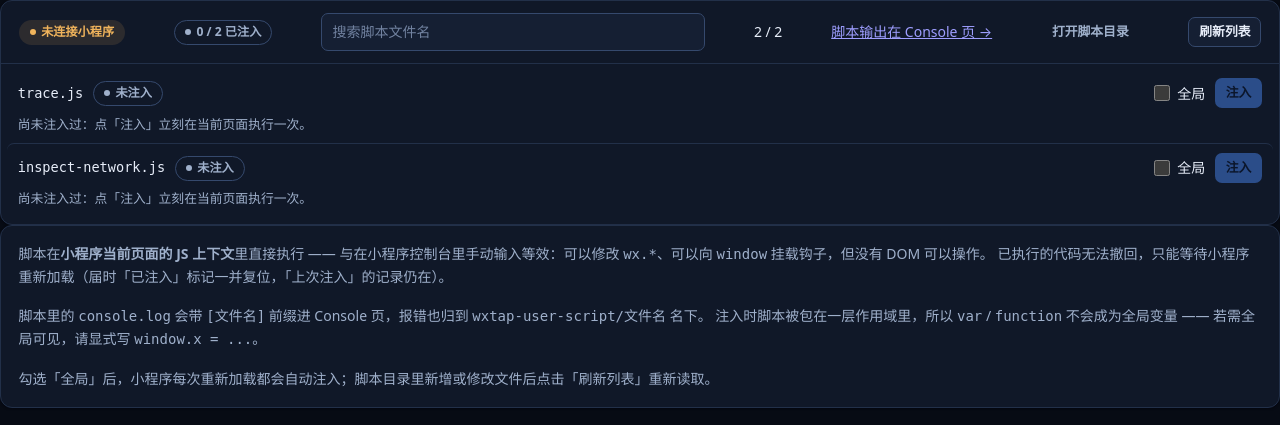
Test: HookView › filters scripts by filename
This screenshot has width=1280, height=425.
In the search field named "搜索 Hook 脚本": point(513, 32) [321,13,705,51], type "network"
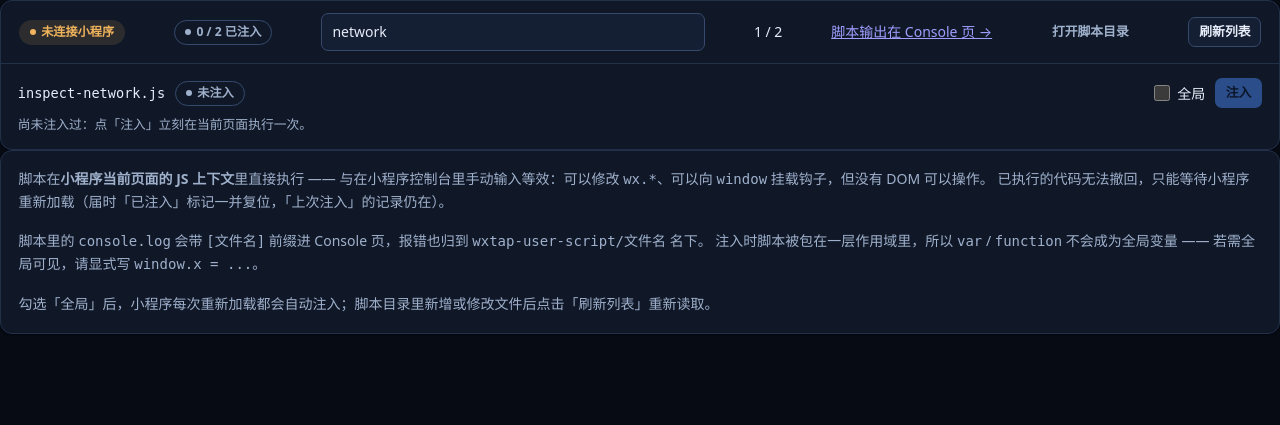
Expected: the text "inspect-network.js" is shown, [18,83,165,104]
Expected: the text "trace.js" is gone
